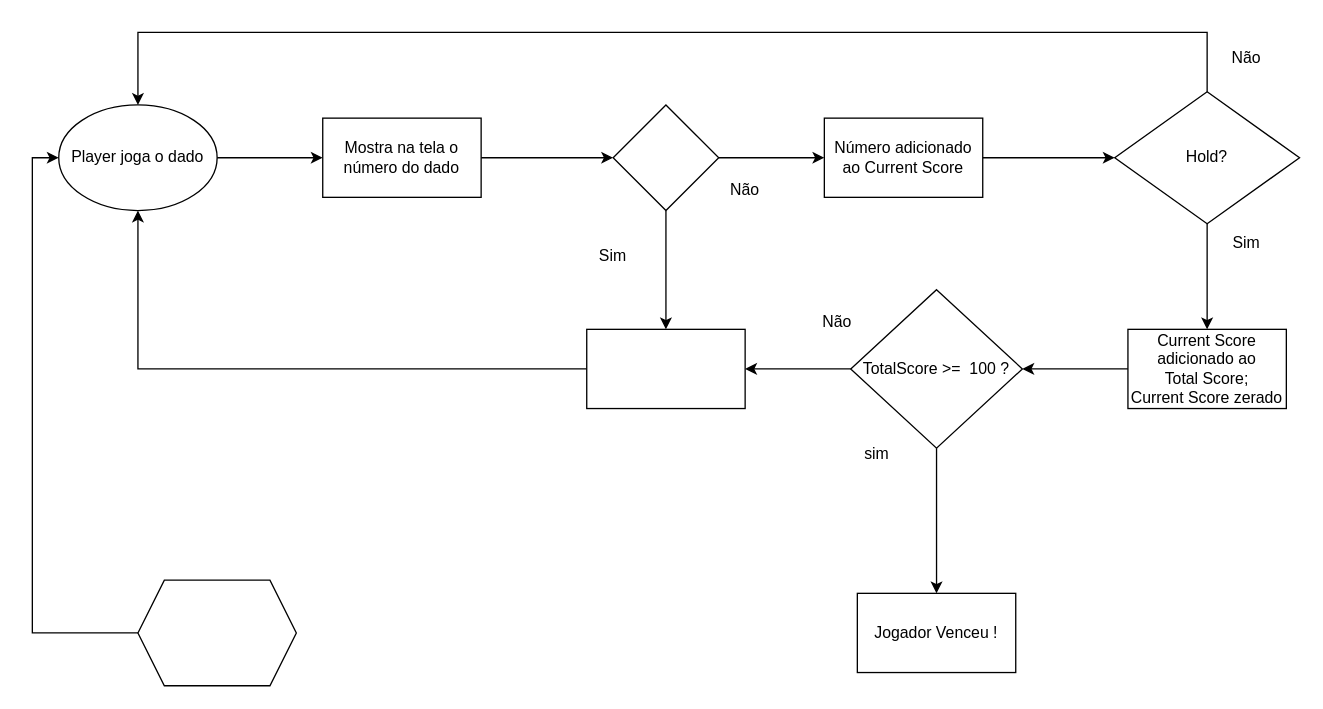
The diagram is 1323 pixels wide and 709 high, and some of its shapes have lost their labels. Here are the shapes that lost their labels. From the top down, the box of each, then its label:
(612, 104, 719, 211): Número 1?
(585, 328, 745, 409): É a vez do outro jogador
(137, 579, 296, 686): Resetar o jogo
